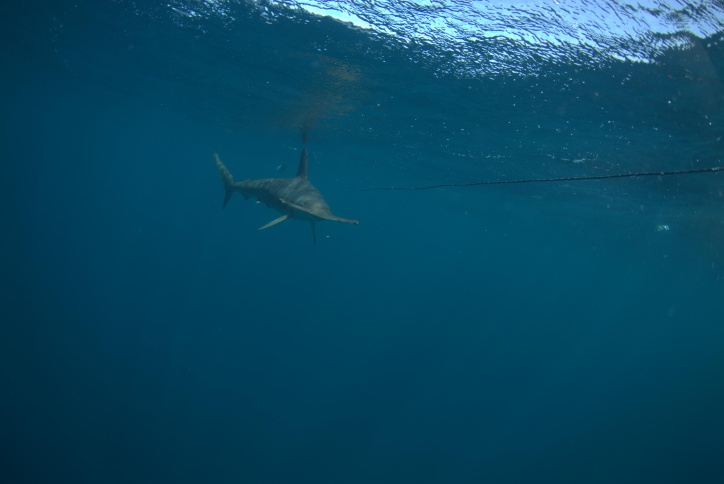Hammer: (195, 120, 390, 273)
